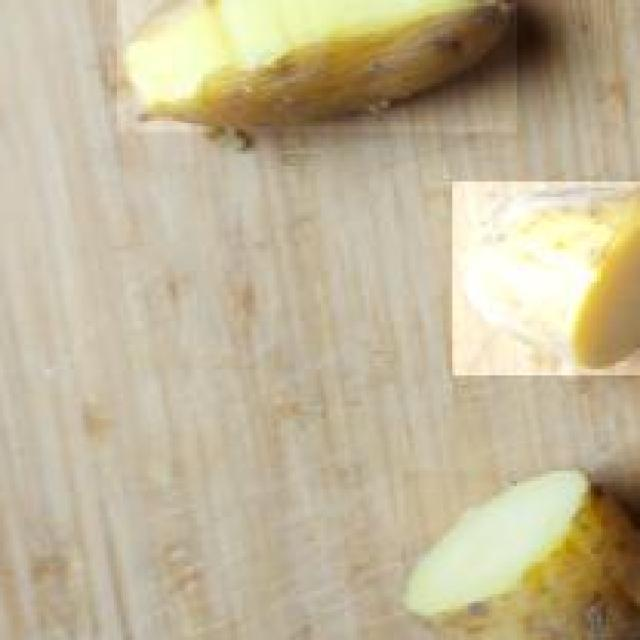potato: (114, 0, 517, 132), (400, 467, 640, 640), (449, 178, 640, 376)
